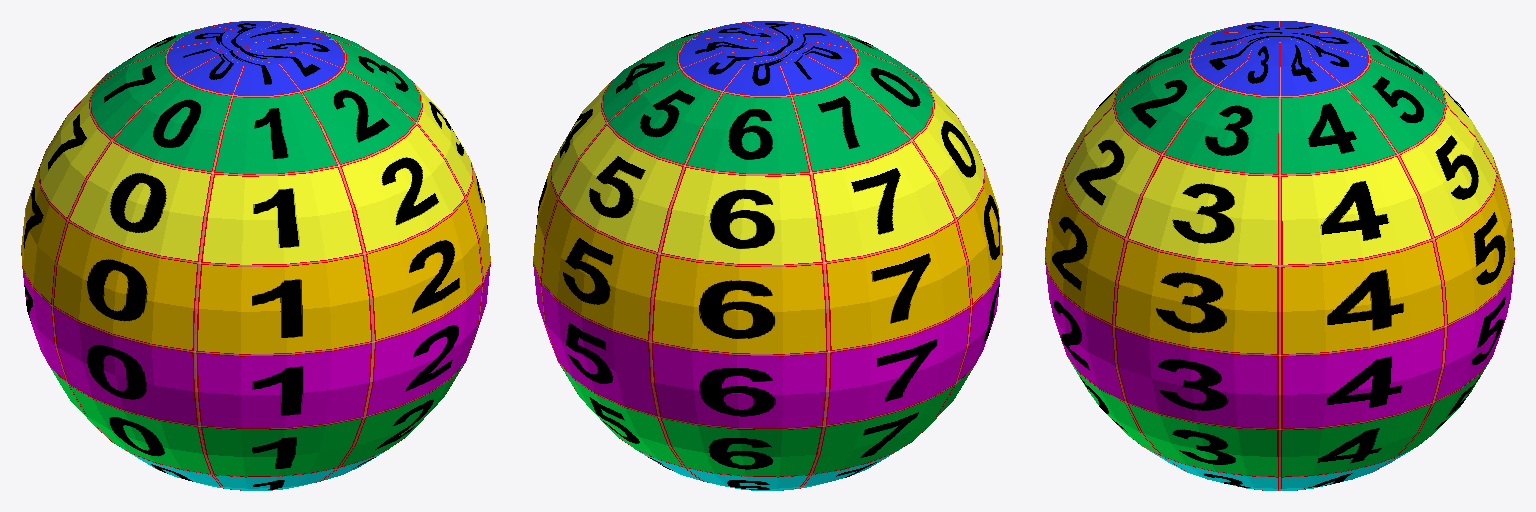
The picture shows the model from 3 angles: view 1: azimuth 30°, elevation 25°; view 2: azimuth 150°, elevation 25°; view 3: azimuth 270°, elevation 25°; orthographic projection.
Visible parts, largest first — view 1: Sphere; view 2: Sphere; view 3: Sphere.
Boxes of the visible parts, <box> form: Sphere: <box>21,21,490,490</box>; Sphere: <box>533,21,1002,490</box>; Sphere: <box>1045,21,1514,490</box>.
Bounding box in the file's own units: 40 × 40 × 40.
1 materials, 1 textured.